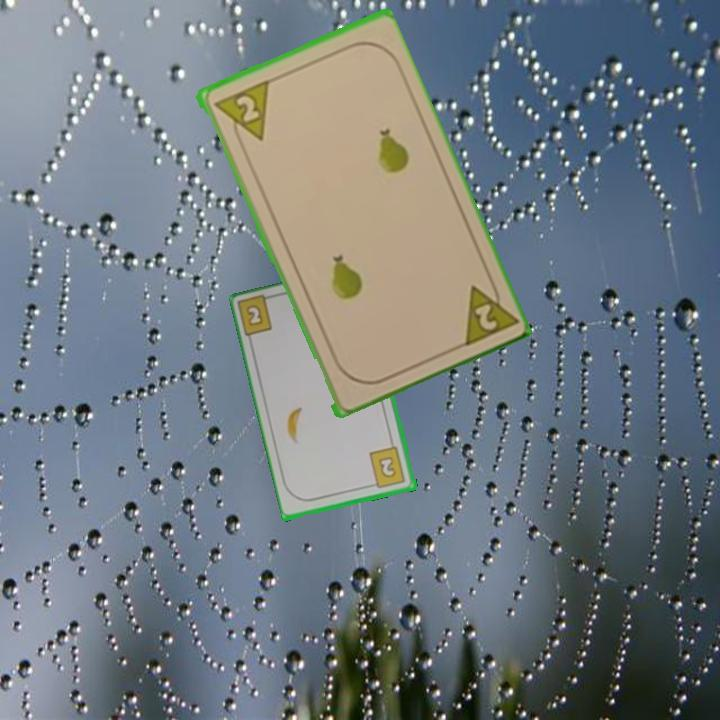2b: (366, 444, 409, 491), (242, 301, 266, 329)
2p: (456, 272, 518, 350), (208, 77, 271, 150)
